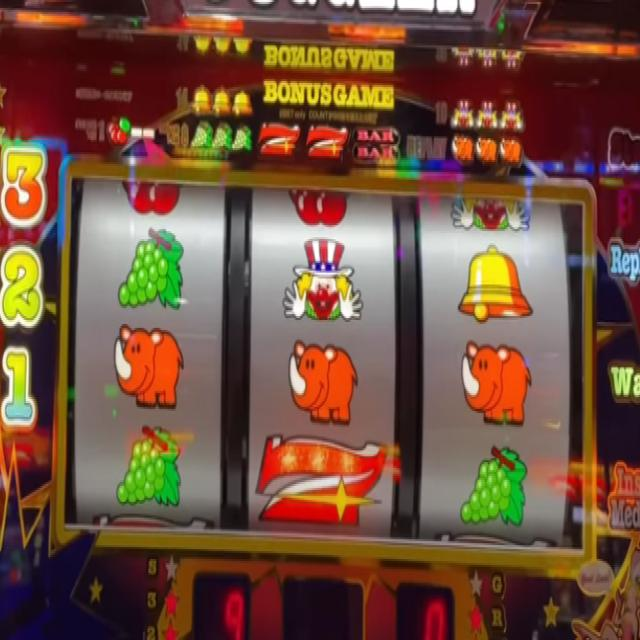bar: (353, 129, 399, 160)
bell: (458, 242, 533, 324), (190, 82, 212, 116), (212, 81, 231, 117), (234, 88, 252, 122), (234, 34, 254, 55), (193, 35, 212, 56), (215, 36, 230, 56)
cherry: (290, 185, 348, 227), (124, 178, 178, 214), (106, 115, 132, 146)
clown: (282, 236, 362, 323), (449, 195, 529, 241), (452, 98, 475, 134), (475, 98, 498, 130), (500, 99, 521, 131)
display: (69, 168, 586, 560)
elephant: (114, 323, 184, 409), (288, 339, 358, 425), (462, 343, 532, 425), (451, 134, 474, 162), (500, 136, 520, 164), (476, 137, 496, 163)
grape: (116, 422, 182, 508), (116, 225, 184, 308), (462, 448, 528, 532), (188, 120, 210, 150), (211, 120, 230, 152), (232, 126, 252, 153)
z: (257, 435, 386, 526), (259, 121, 299, 158), (306, 127, 346, 160)
